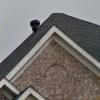Chimney: (23, 12, 43, 36)
